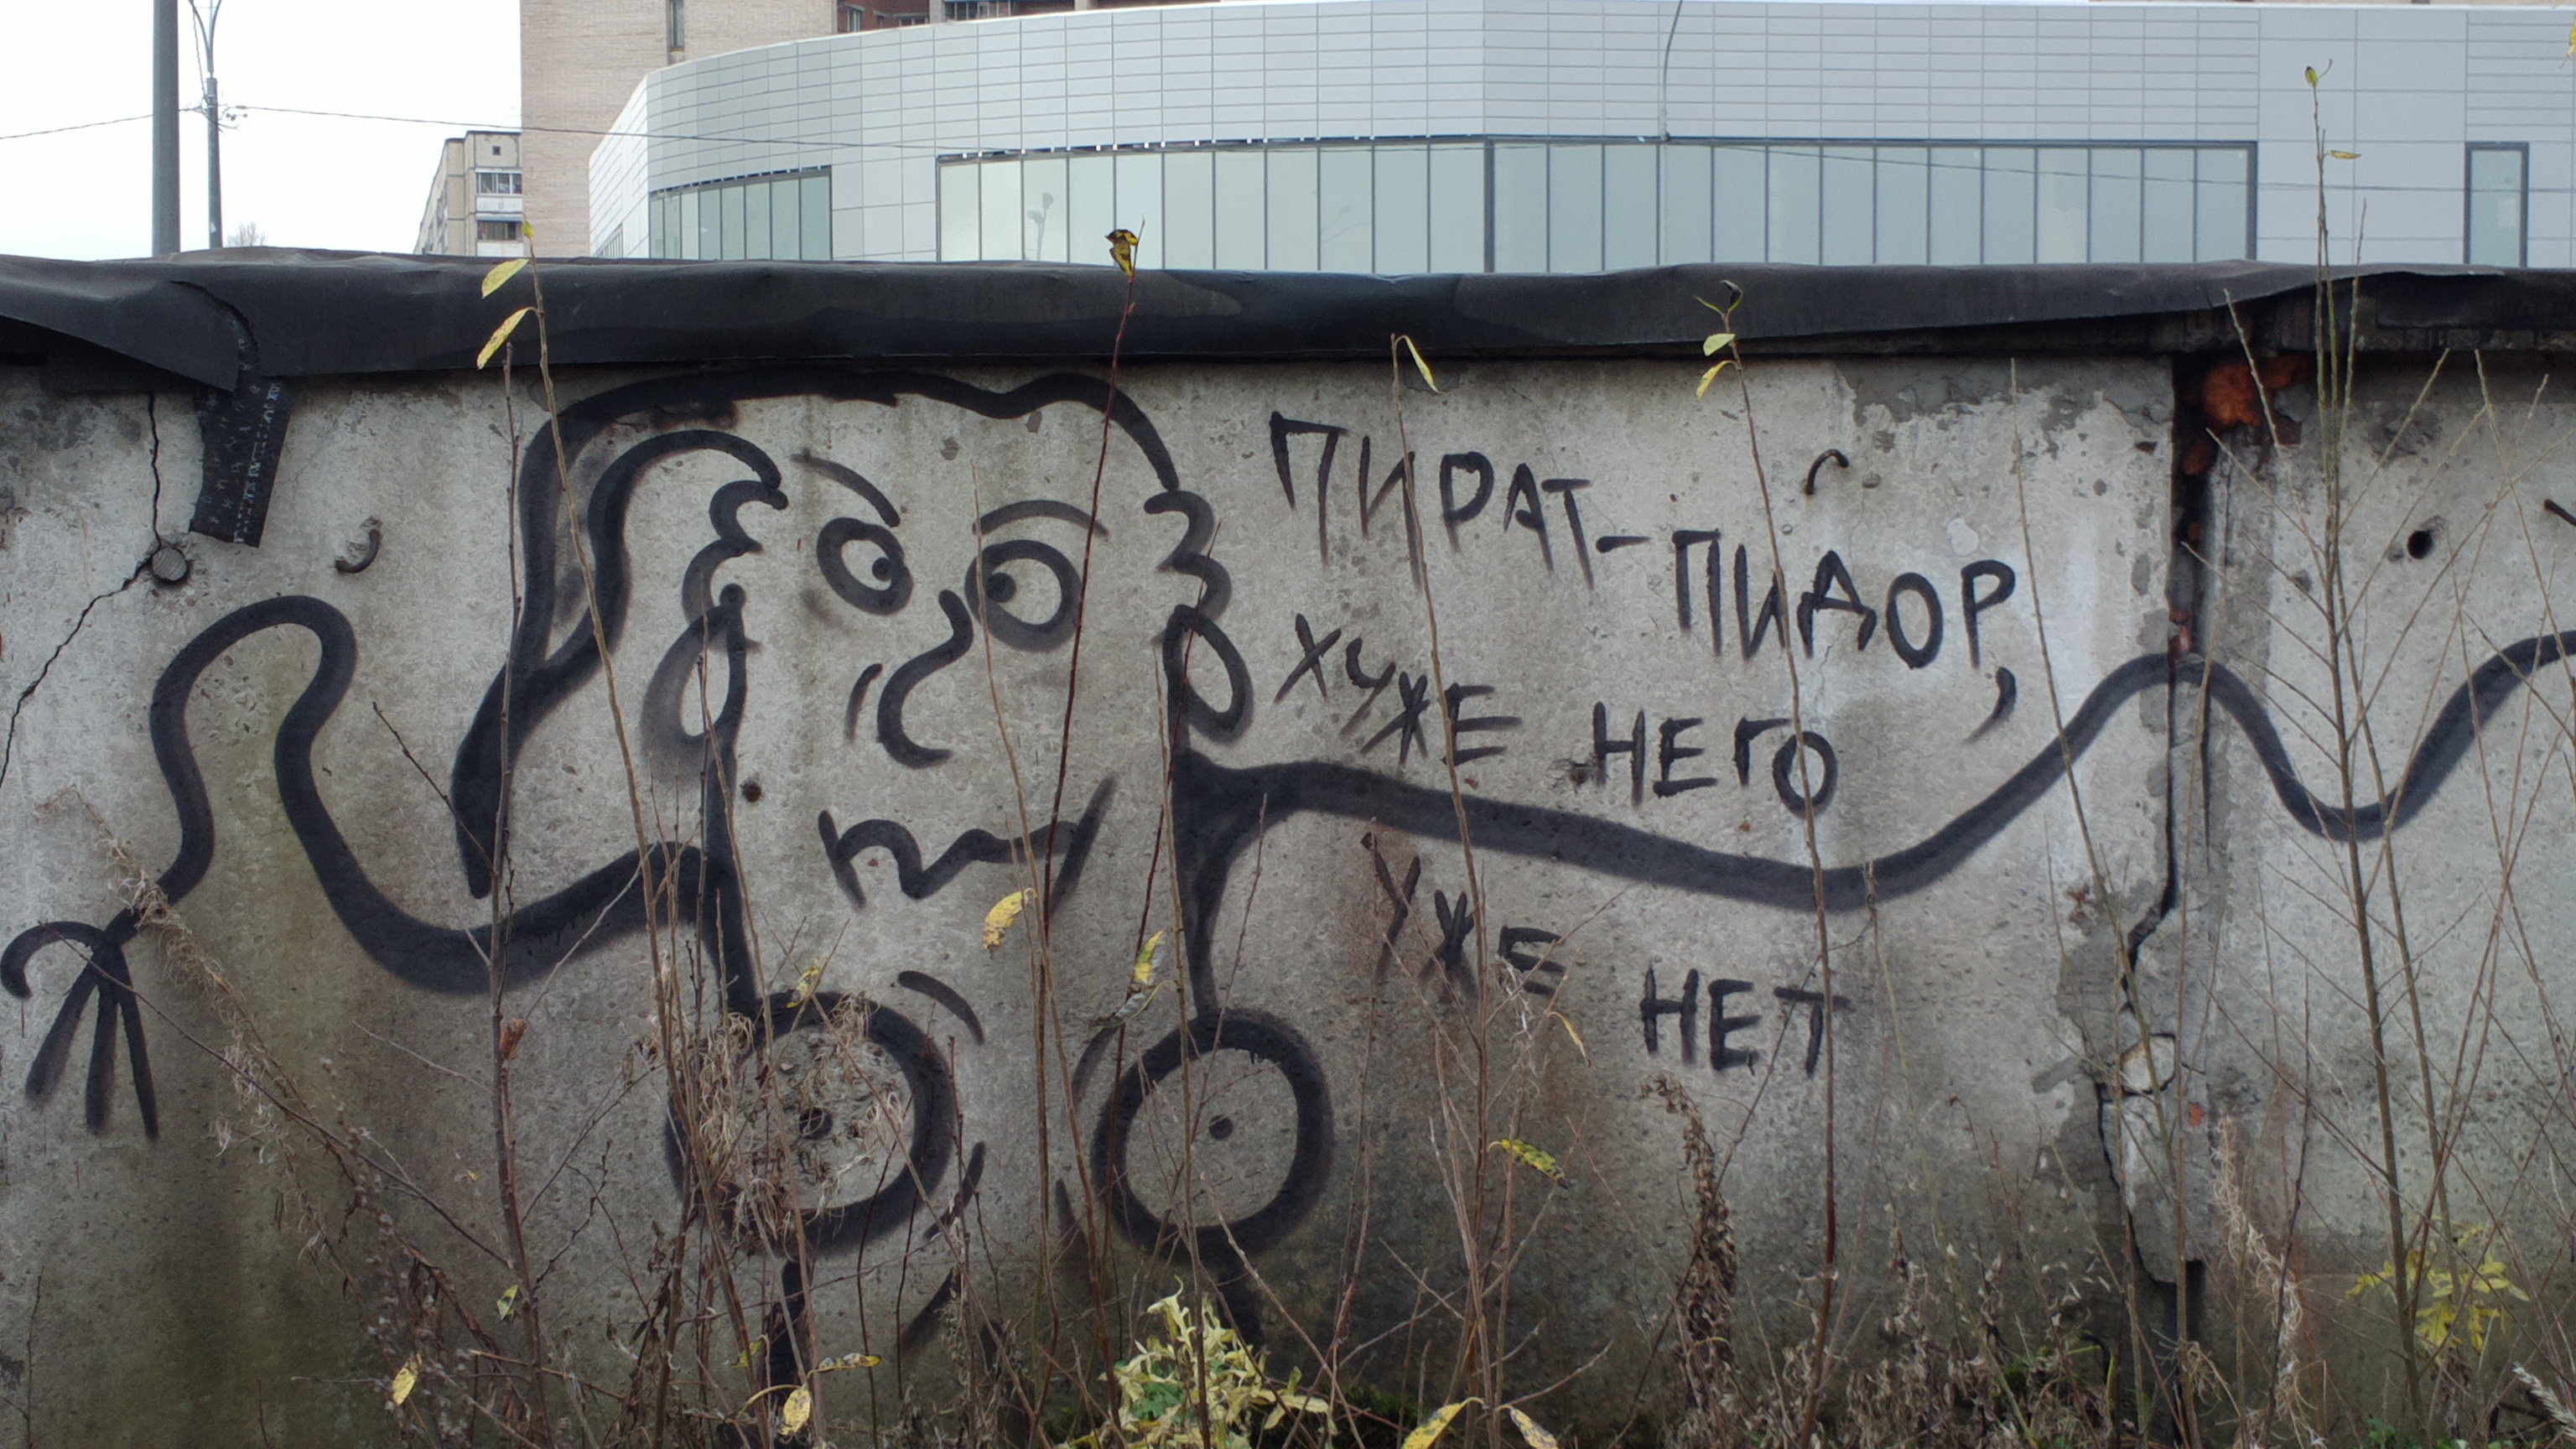graphite: (18, 375, 2576, 1311), (1261, 405, 2052, 704), (1276, 621, 1884, 846), (1371, 855, 1884, 1111)
